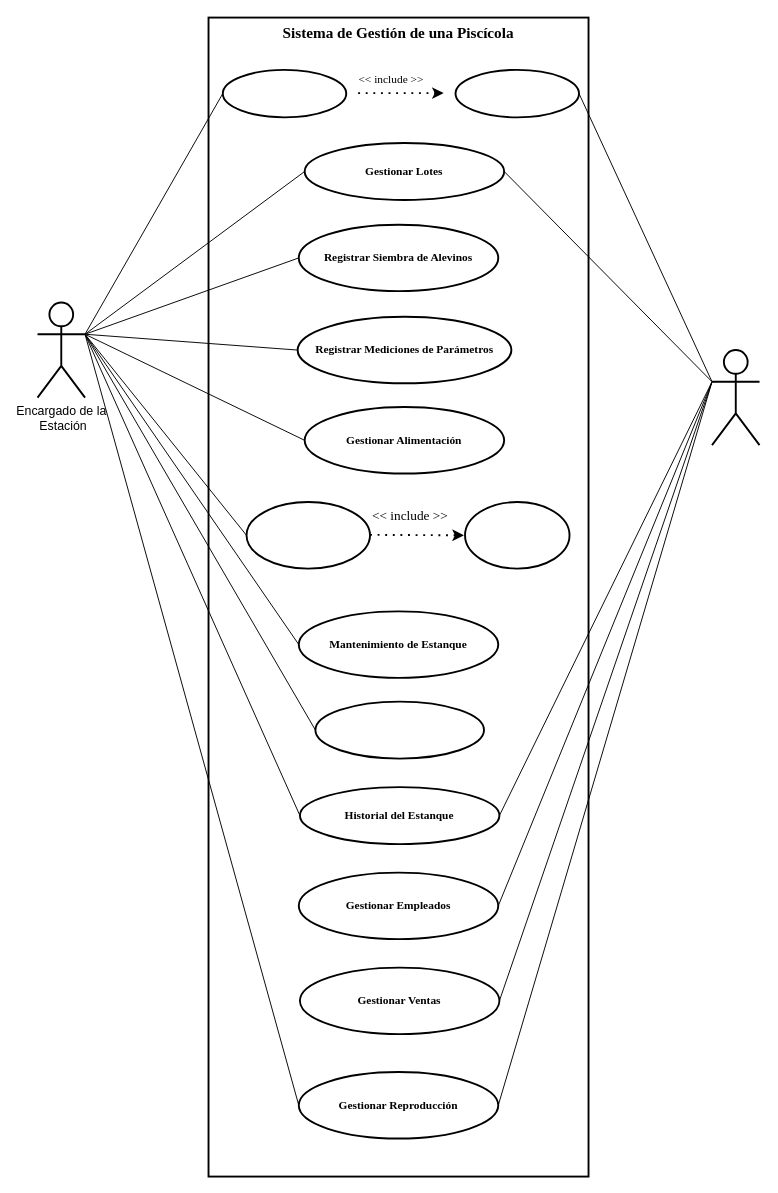
Image size: 778x1193. Some labels were removed from this diagram. Each missing label, with the centre of its shape:
Gestionar Estanque: the point at 284,93
Notificar Alerta: the point at 517,535
Piscicultor: the point at 735,397
Programar Cosecha: the point at 517,93
Registrar Alerta por Boqueo: the point at 307,535
Registrar Cosecha: the point at 399,729
